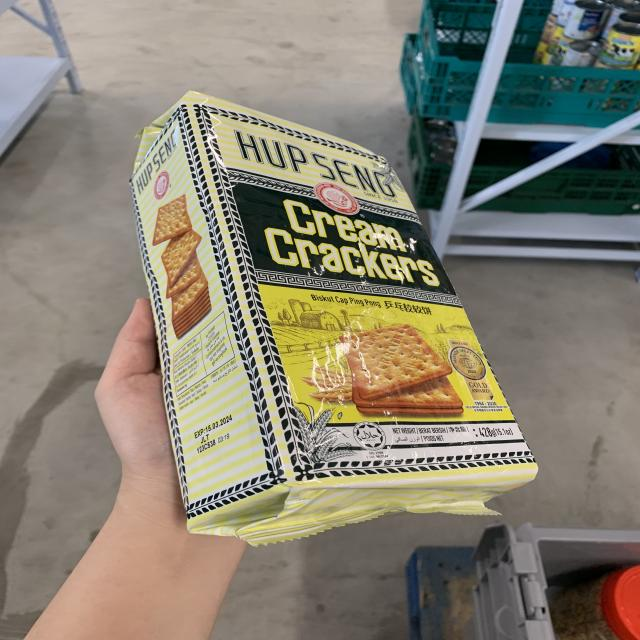object_name: (147, 109, 511, 516)
